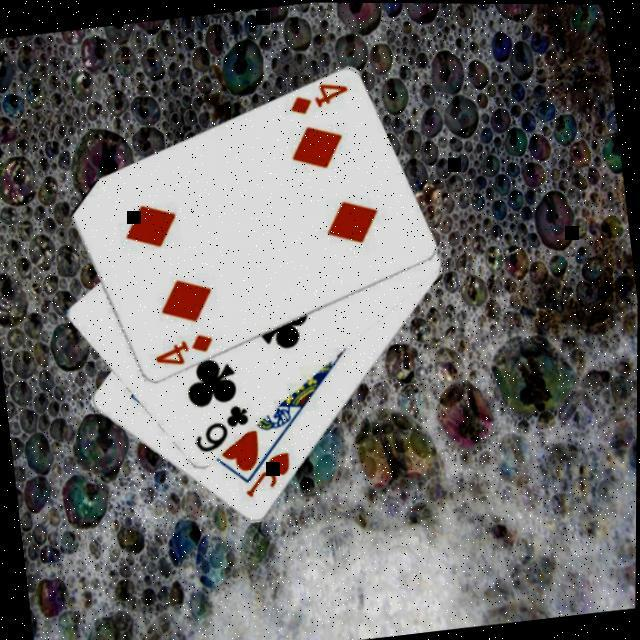4D: (149, 329, 218, 371), (285, 78, 354, 120)
6C: (189, 401, 257, 458)
JH: (239, 447, 298, 501)
